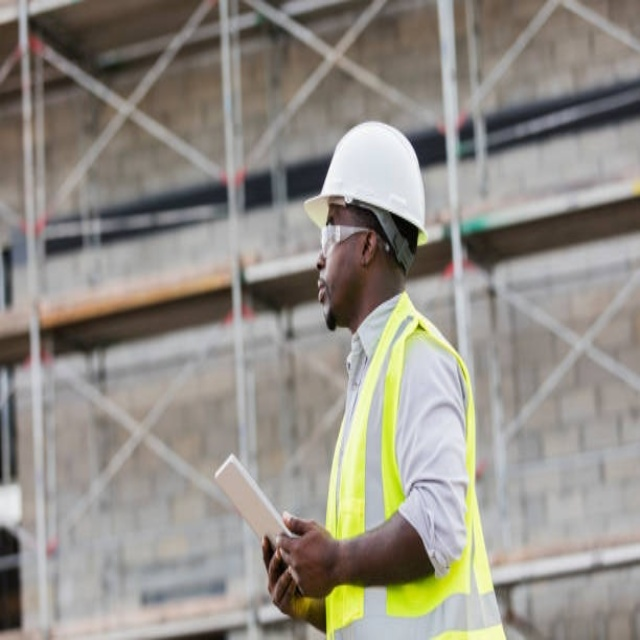Gafas: (320, 223, 376, 256)
Sin_guantes: (278, 503, 340, 597), (264, 528, 318, 619)
Sin_mascara: (315, 265, 346, 323)
